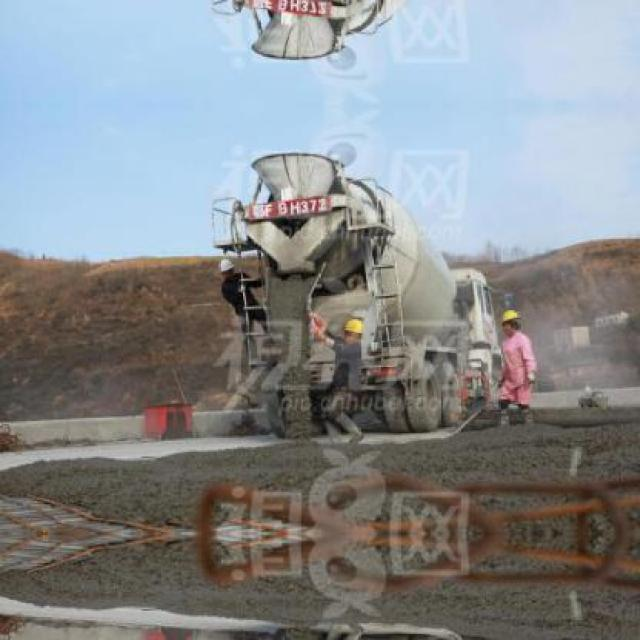helmet: (340, 316, 368, 346), (498, 308, 520, 336), (214, 254, 235, 278)
